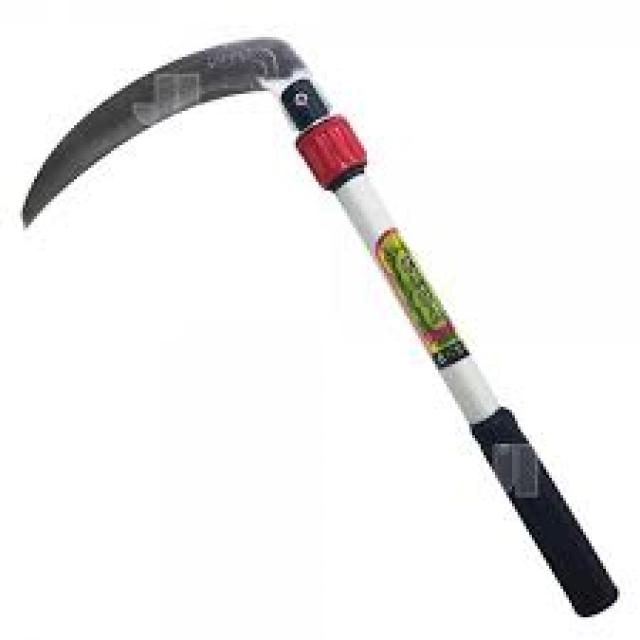sickle: (23, 30, 619, 628)
